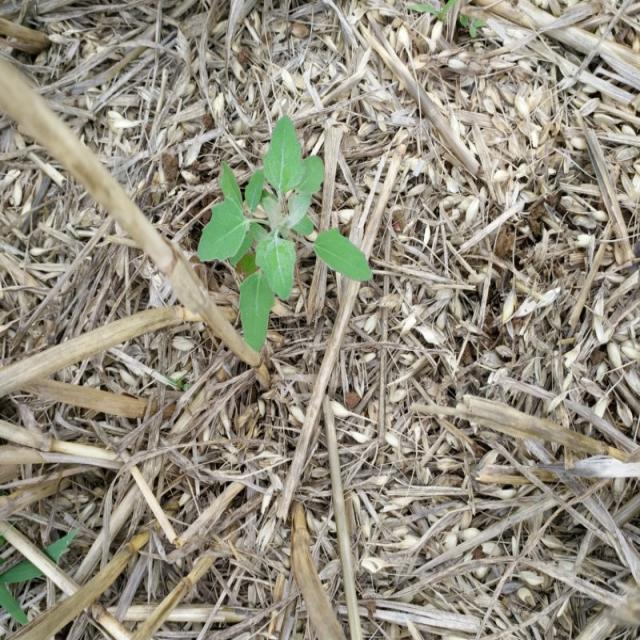ca: (200, 120, 373, 354)
